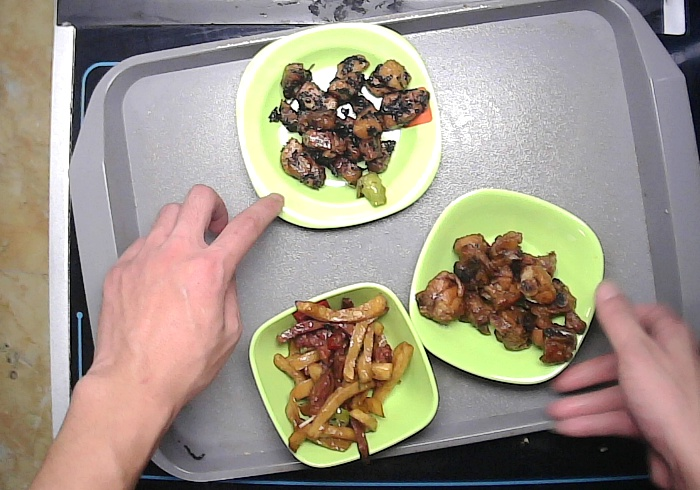SHKJ-Lv_Se_Cai_Die: (408, 188, 606, 385)
SHKJ-Lv_Se_Si_Fang_Cai_Die: (235, 22, 441, 230)
SHKJ-Lv_Se_Xiao_Fang_Die: (249, 281, 437, 469)
